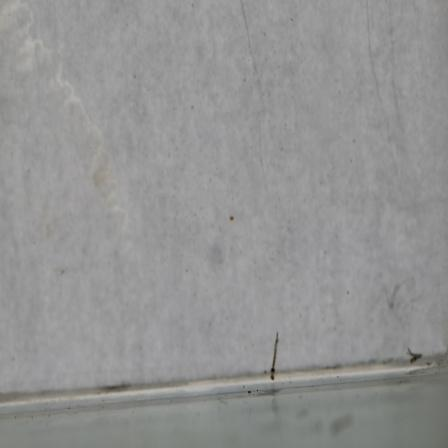Jentik-Nyamuk: (267, 327, 286, 383)
